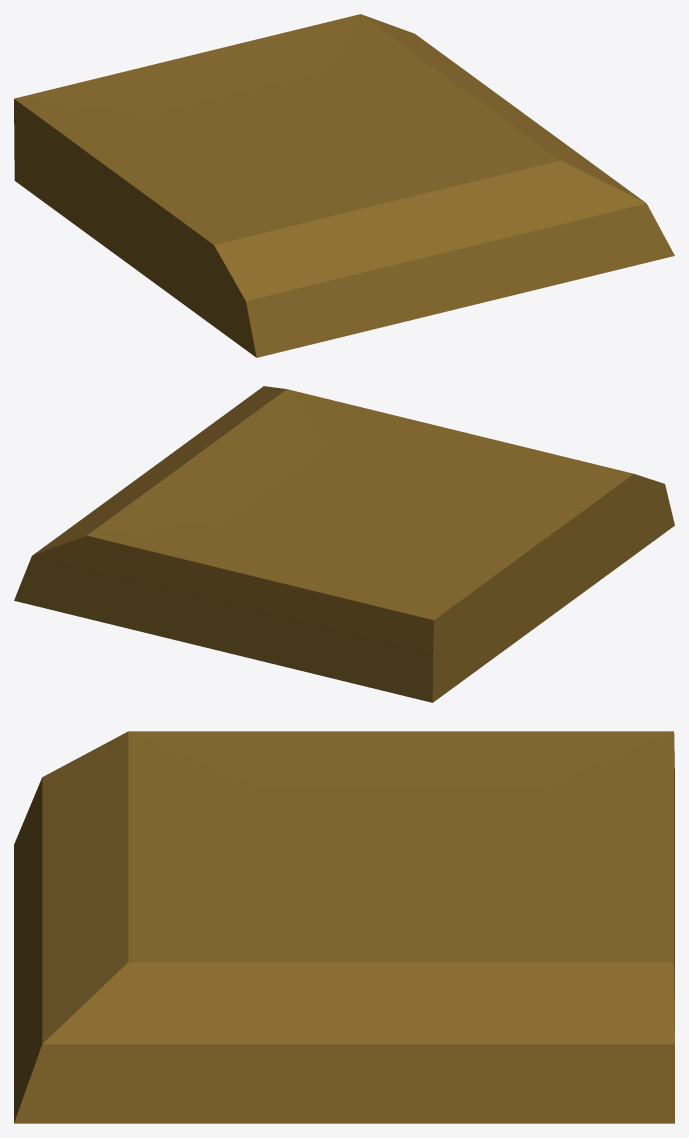
The model's file is uncultivated_bed1.fbx.
3 views of the same model, one above another, from view 1: azimuth 30°, elevation 25°; view 2: azimuth 150°, elevation 25°; view 3: azimuth 270°, elevation 25° (orthographic). The views are drawn at different scales.
Parts seen in each view (by area): view 1: Куб.001; view 2: Куб.001; view 3: Куб.001.
Part boxes in pixels (x1,y1,x2,y2): Куб.001: (14, 14, 674, 357); Куб.001: (14, 386, 674, 702); Куб.001: (14, 731, 674, 1123).
Size of the model in its own units: 85 by 16 by 85.
1 material, 1 textured.
